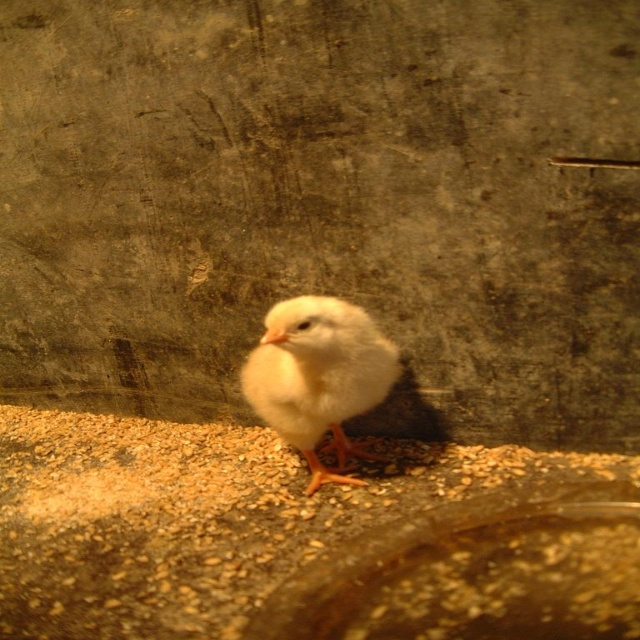Chicken: (240, 292, 400, 488)
